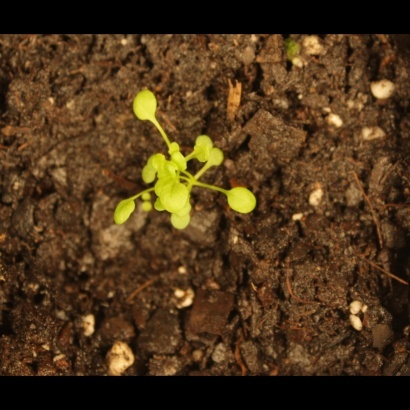leaf: (224, 176, 260, 225), (123, 88, 167, 123), (158, 180, 194, 217), (113, 193, 140, 234), (195, 129, 222, 160), (138, 154, 166, 180), (166, 210, 196, 233), (205, 146, 230, 171)
